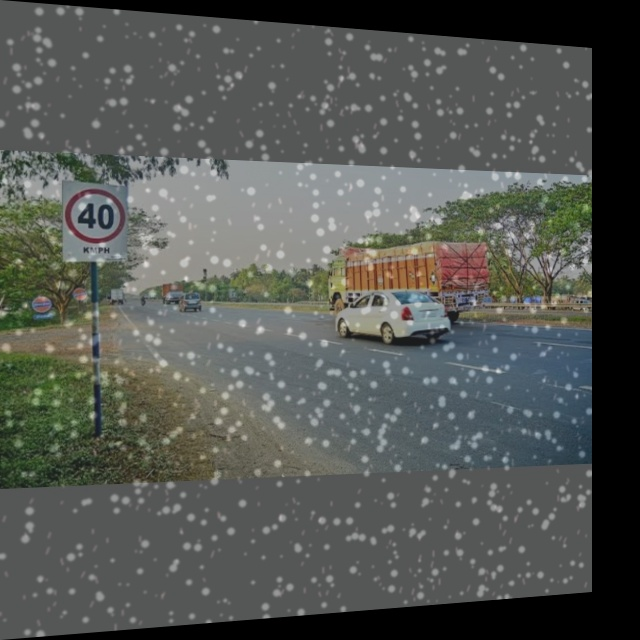Speed_Limit_40: (63, 178, 130, 266)
